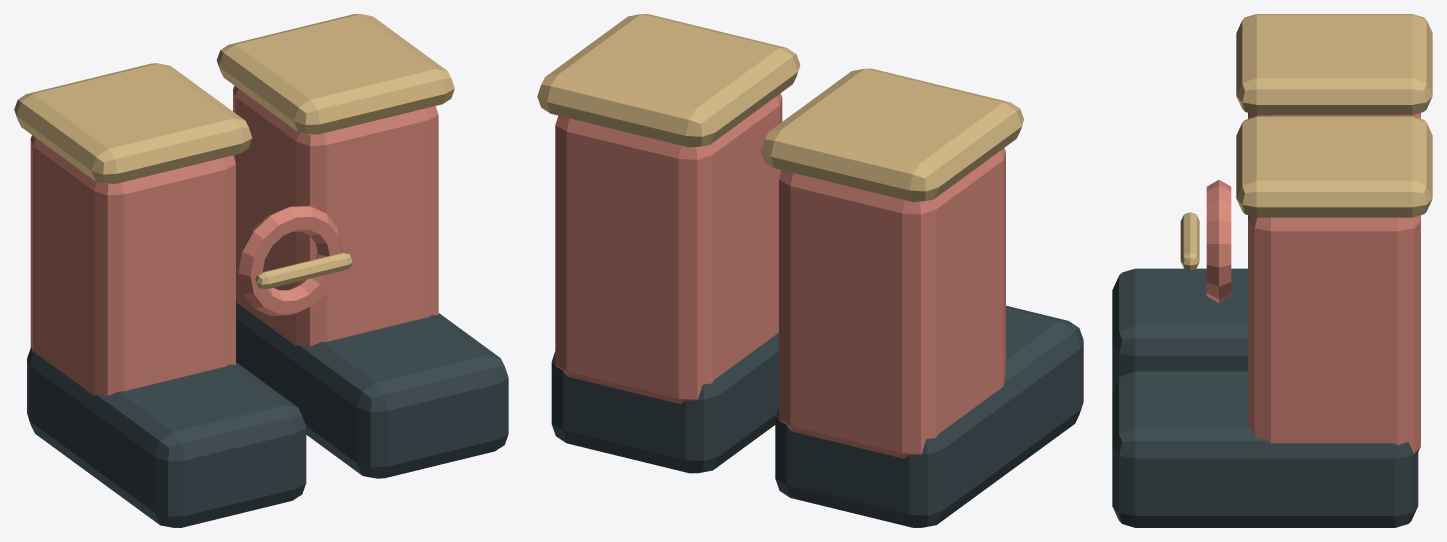
The model's file is arm_relay_boots.glb.
The picture shows the model from 3 angles, left to right: view 1: azimuth 30°, elevation 25°; view 2: azimuth 150°, elevation 25°; view 3: azimuth 270°, elevation 25°; orthographic projection. The views are drawn at different scales.
Parts seen in each view (by area): view 1: arm_relay_boots; view 2: arm_relay_boots; view 3: arm_relay_boots.
Boxes of the visible parts, x1=… form: arm_relay_boots: x1=14, y1=14, x2=508, y2=527; arm_relay_boots: x1=537, y1=14, x2=1083, y2=527; arm_relay_boots: x1=1112, y1=14, x2=1432, y2=527.
Size of the model in its own units: 0.75 by 0.67 by 0.555.
